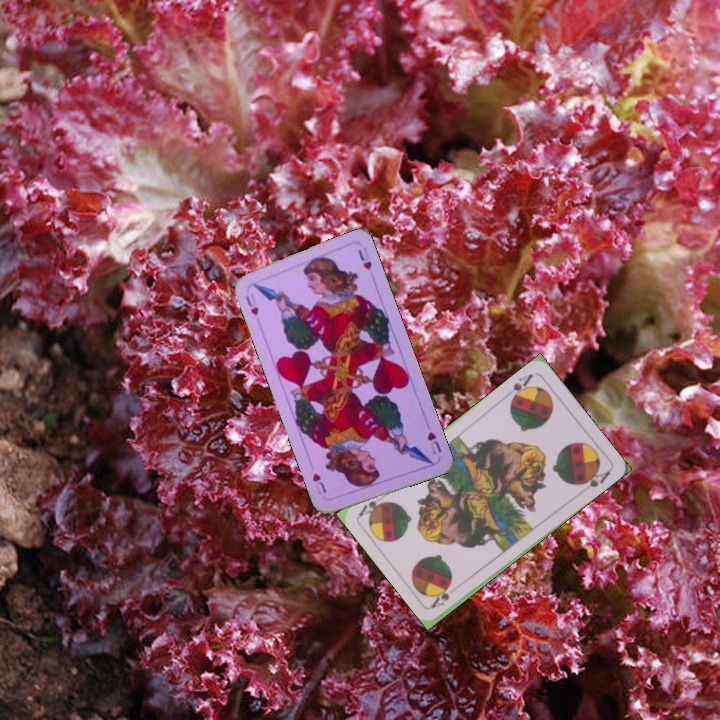HU: (423, 428, 444, 457), (241, 289, 261, 318)
SA: (502, 370, 535, 404), (428, 580, 463, 610)
